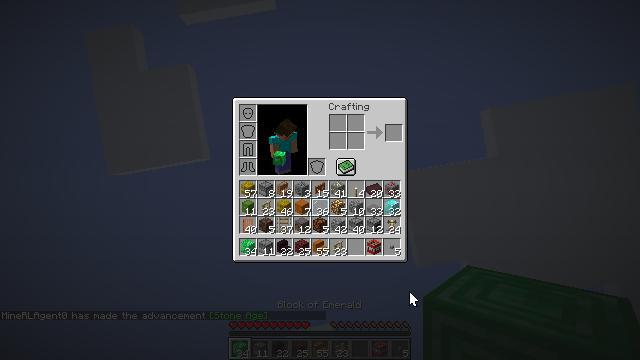cursor: (409, 291, 419, 307)
